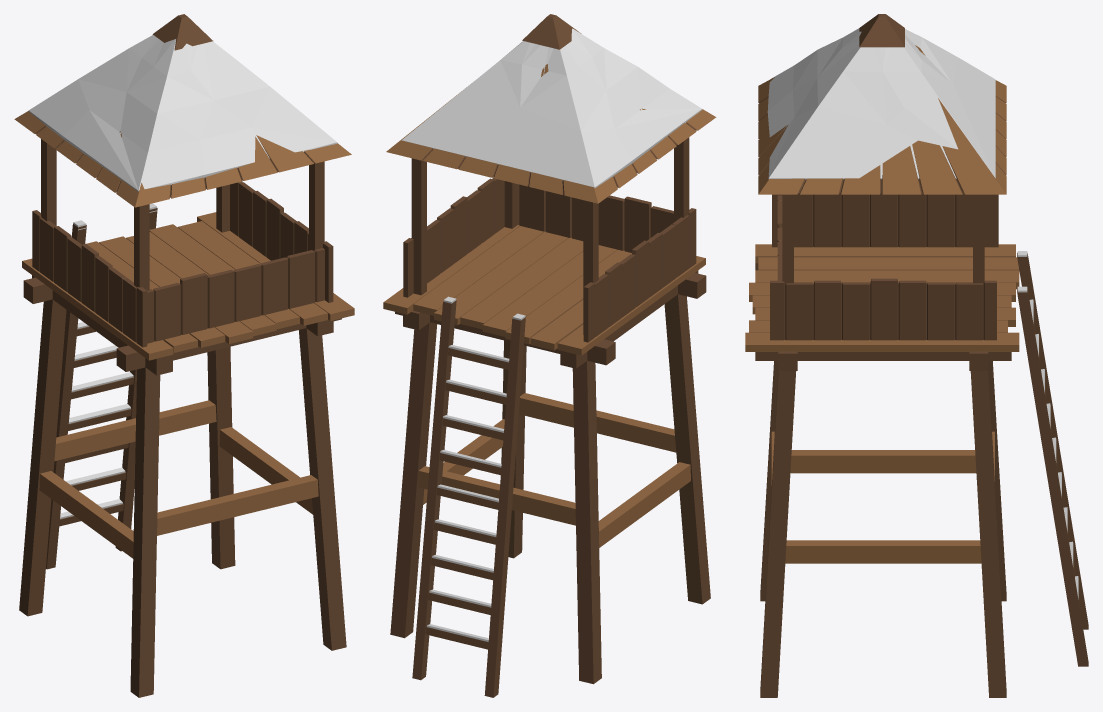
File: GuardTower_2_lvl_snow_mat.fbx
3 renders of one model, left to right at view 1: azimuth 30°, elevation 25°; view 2: azimuth 150°, elevation 25°; view 3: azimuth 270°, elevation 25°, orthographic. The views are drawn at different scales.
Parts seen in each view (by area): view 1: GuardTower_2_lvl_snow_mat; view 2: GuardTower_2_lvl_snow_mat; view 3: GuardTower_2_lvl_snow_mat.
Boxes of the visible parts, x1,y1,x2,y2 form: GuardTower_2_lvl_snow_mat: (14,14,354,697); GuardTower_2_lvl_snow_mat: (383,14,716,697); GuardTower_2_lvl_snow_mat: (745,14,1088,697).
Size of the model in its own units: 1.47 by 3.96 by 1.96.
